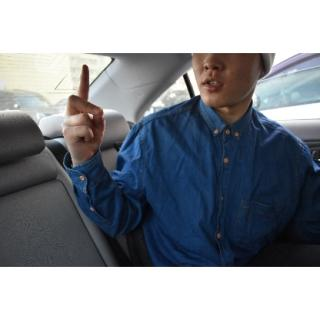TAA: (58, 59, 109, 172)
